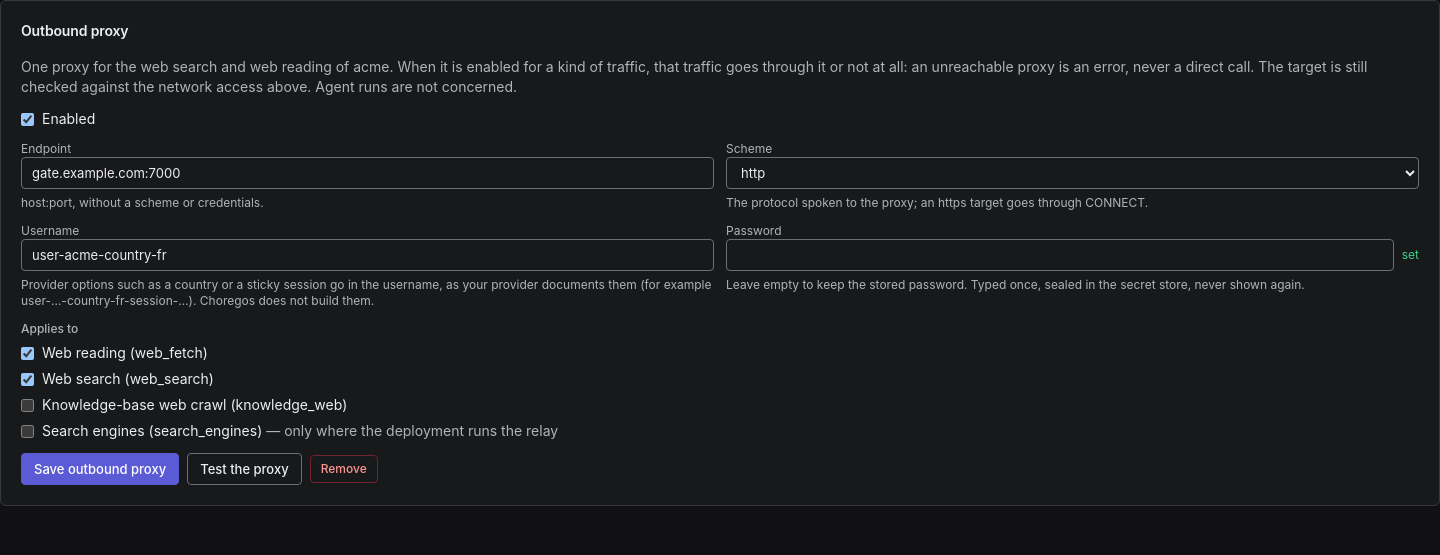
Test: the organisation's outbound proxy (ADR 0087) › Test shows the exit IP, the country and the time
Check: the field showing "gate.example.com:7000" is shown, box x1=21 y1=157 x2=714 y2=189
What coordinates should you click on to do the following:
click the button "Test the proxy"
I would click on:
 (244, 469)
Its box is x1=187 y1=453 x2=302 y2=485.
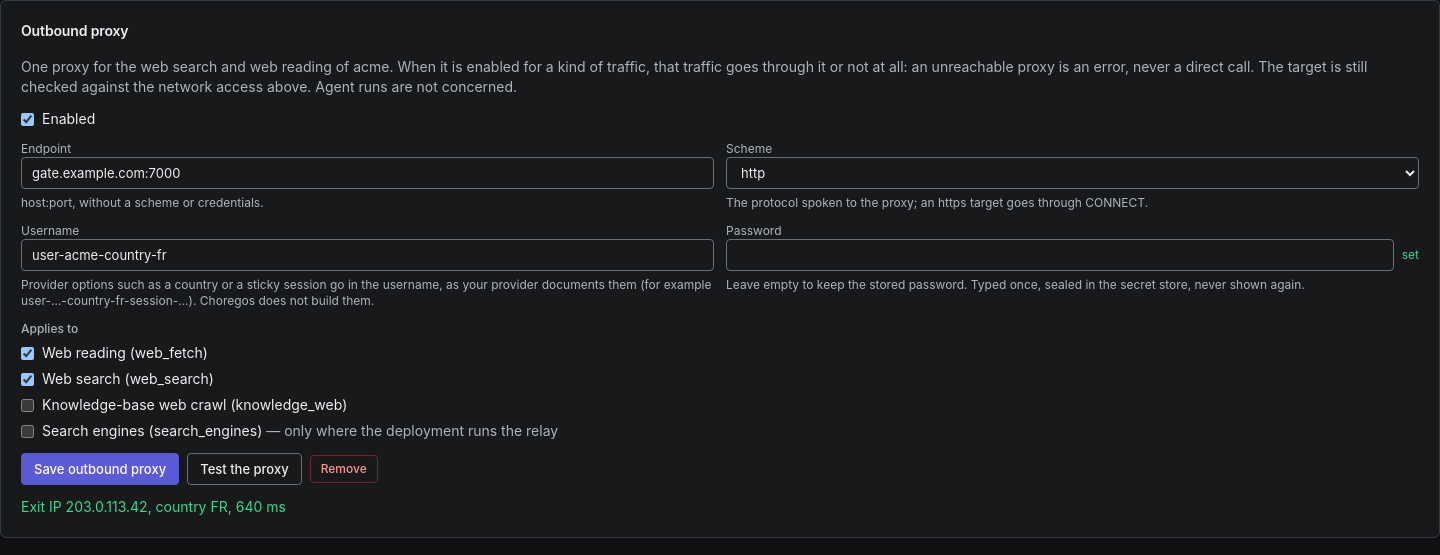
Check: the message shows "203.0.113.42", box x1=66 y1=498 x2=148 y2=515
Check: the message shows "FR", box x1=210 y1=498 x2=228 y2=515
Check: the message shows "640 ms", box x1=21 y1=498 x2=286 y2=515
